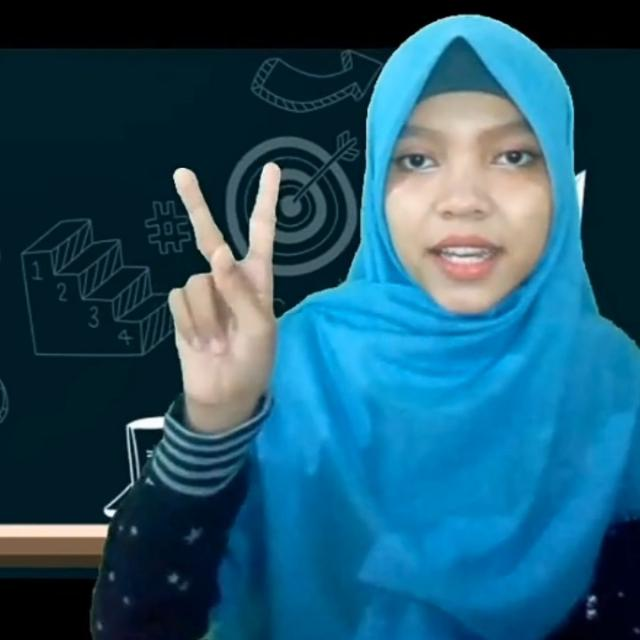K: (164, 162, 280, 412)
